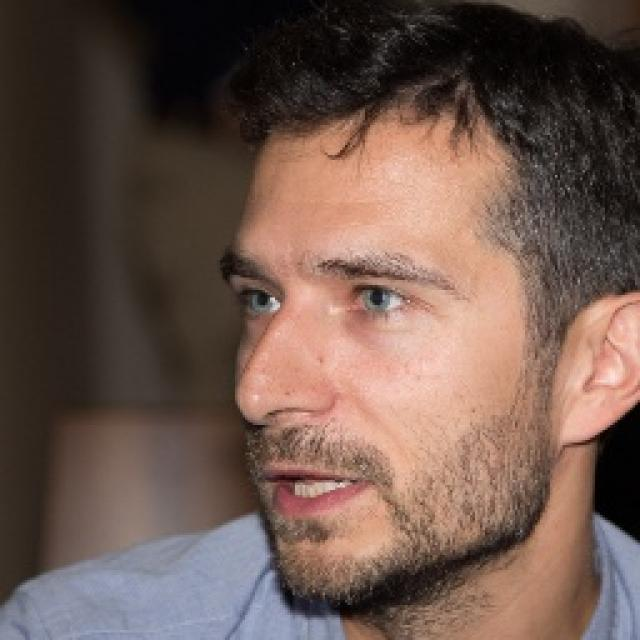earlobe: (555, 289, 640, 445)
